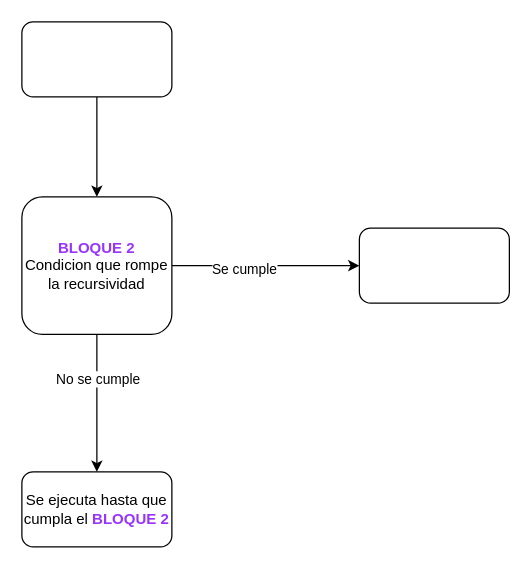
Image size: 531x569. Some labels were removed from this diagram. Each missing label, with the box of its shape:
Entrada: (21, 21, 172, 97)
Se sale la recursividad: (358, 227, 509, 303)
